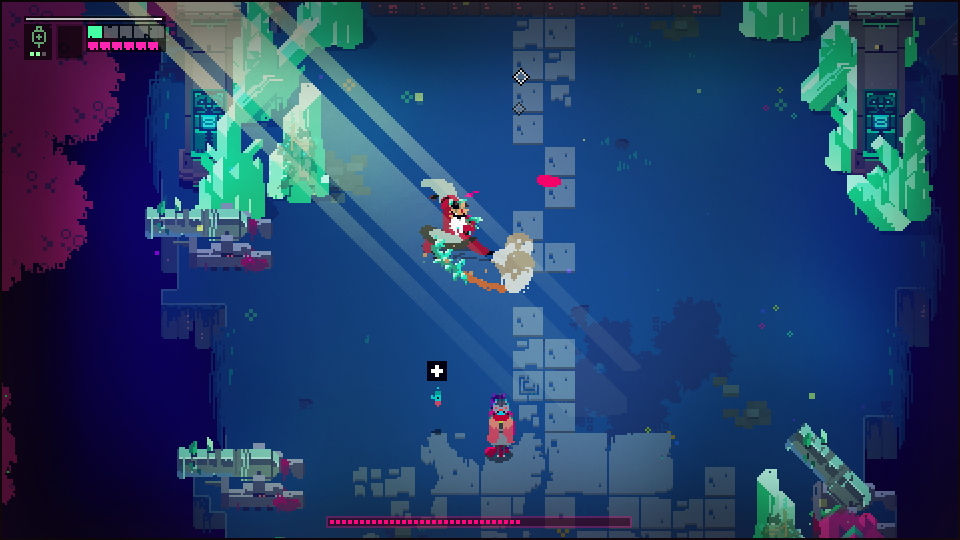hanged_man: (417, 174, 500, 289)
player: (486, 395, 516, 461)
